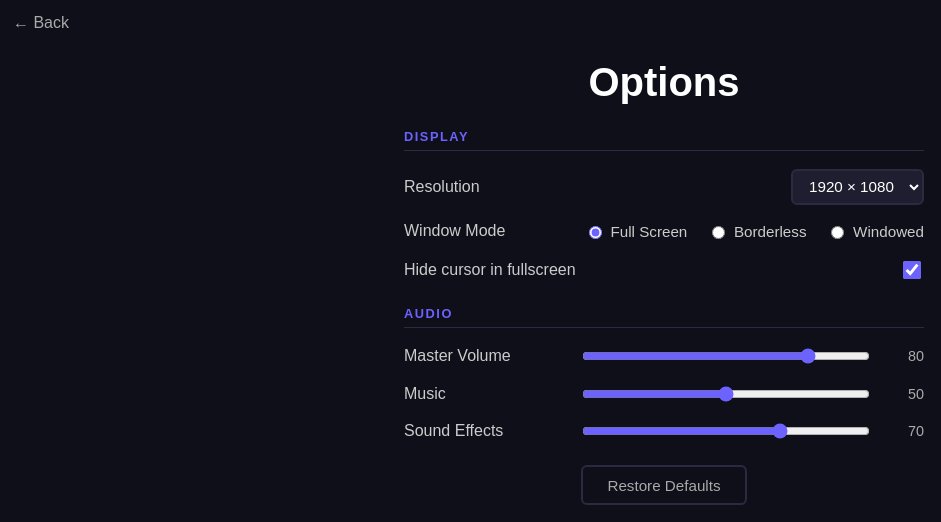
it: Interactions › selecting Windowed radio updates the selection
This screenshot has width=941, height=522.
Click the radio button labelled "Windowed" at (838,233), box x1=832 y1=226 x2=844 y2=239
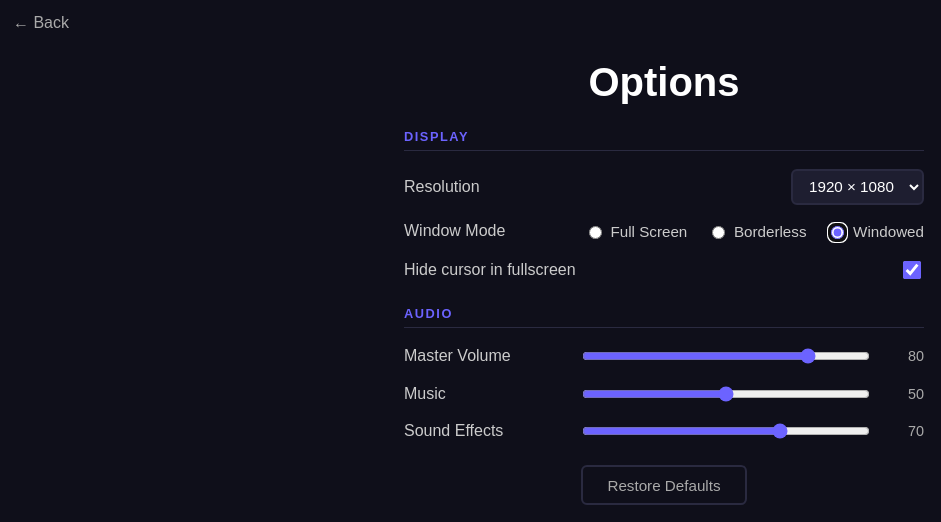
Now the radio button labelled "Windowed" is checked, box x1=832 y1=226 x2=844 y2=239
Now the radio button labelled "Full Screen" is not checked, box x1=589 y1=226 x2=602 y2=239
